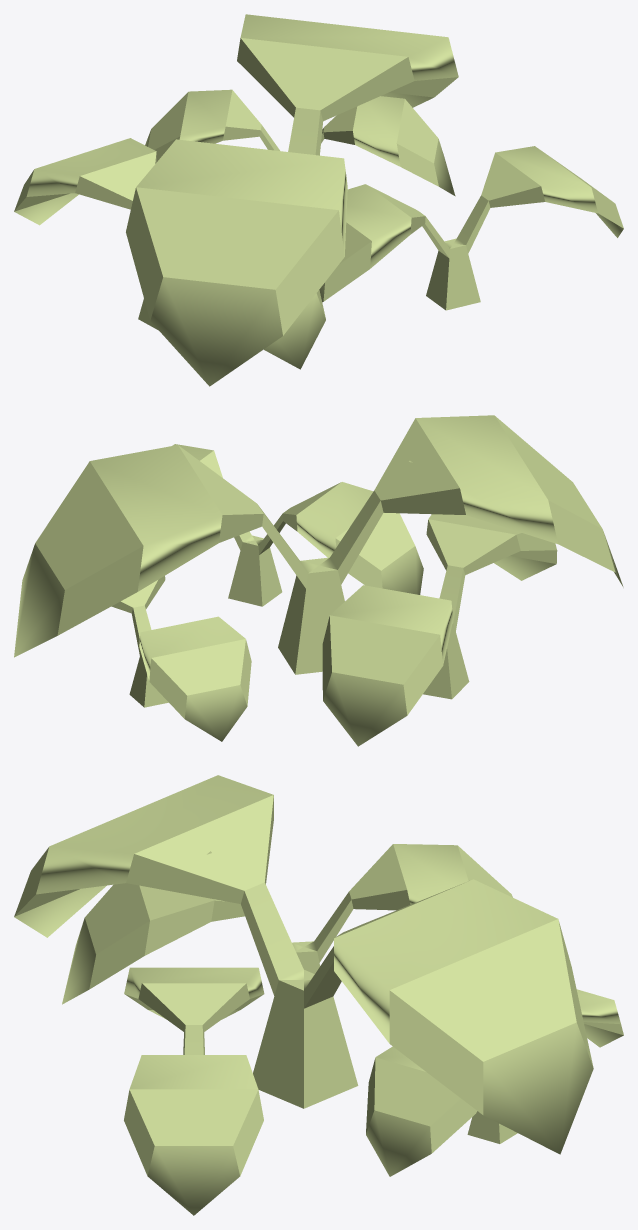
The model's file is Grass4.fbx.
The picture shows the model from 3 angles, top to bottom: view 1: azimuth 30°, elevation 25°; view 2: azimuth 150°, elevation 25°; view 3: azimuth 270°, elevation 25°; orthographic projection. The views are drawn at different scales.
Parts seen in each view (by area): view 1: Grass4; view 2: Grass4; view 3: Grass4.
Part boxes in pixels (x1,y1,x2,y2): Grass4: (14,14,623,386); Grass4: (14,415,623,746); Grass4: (14,775,623,1215).
Size of the model in its own units: 3.37 by 1.25 by 3.15.
